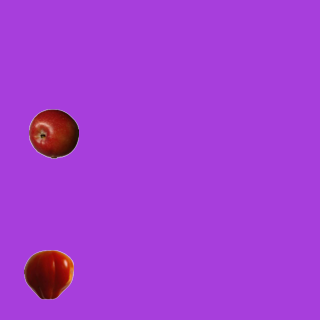Apple Braeburn: (28, 108, 78, 158)
Tomato 1: (23, 249, 73, 299)
